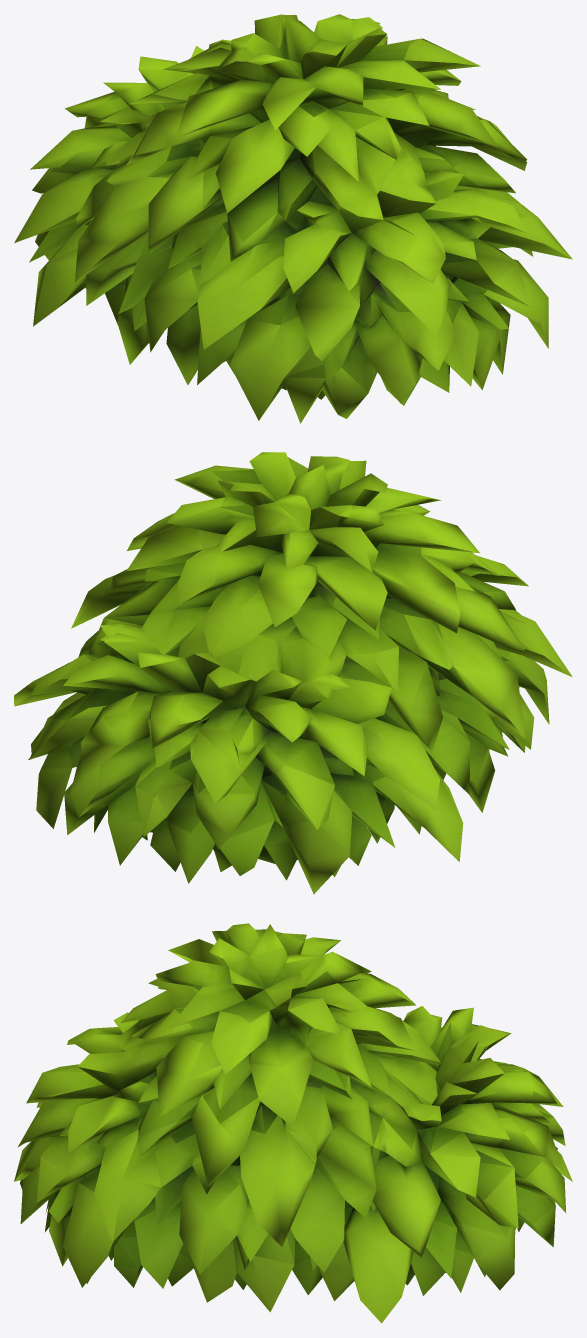
The model's file is hedge_bush.glb.
3 views of the same model, one above another, from view 1: azimuth 30°, elevation 25°; view 2: azimuth 150°, elevation 25°; view 3: azimuth 270°, elevation 25° (orthographic). The views are drawn at different scales.
Visible parts, largest first — view 1: tripo_node_04af0f5d-fb7b-4c23-882b-d443a59440e5; view 2: tripo_node_04af0f5d-fb7b-4c23-882b-d443a59440e5; view 3: tripo_node_04af0f5d-fb7b-4c23-882b-d443a59440e5.
Part boxes in pixels (left/top/right/bottom): tripo_node_04af0f5d-fb7b-4c23-882b-d443a59440e5: left=14, top=14, right=572, bottom=423; tripo_node_04af0f5d-fb7b-4c23-882b-d443a59440e5: left=14, top=452, right=572, bottom=894; tripo_node_04af0f5d-fb7b-4c23-882b-d443a59440e5: left=14, top=923, right=572, bottom=1323.
Bounding box in the file's own units: 0.8202 × 0.5527 × 0.92.
Materials: 1 (1 with a texture image).
